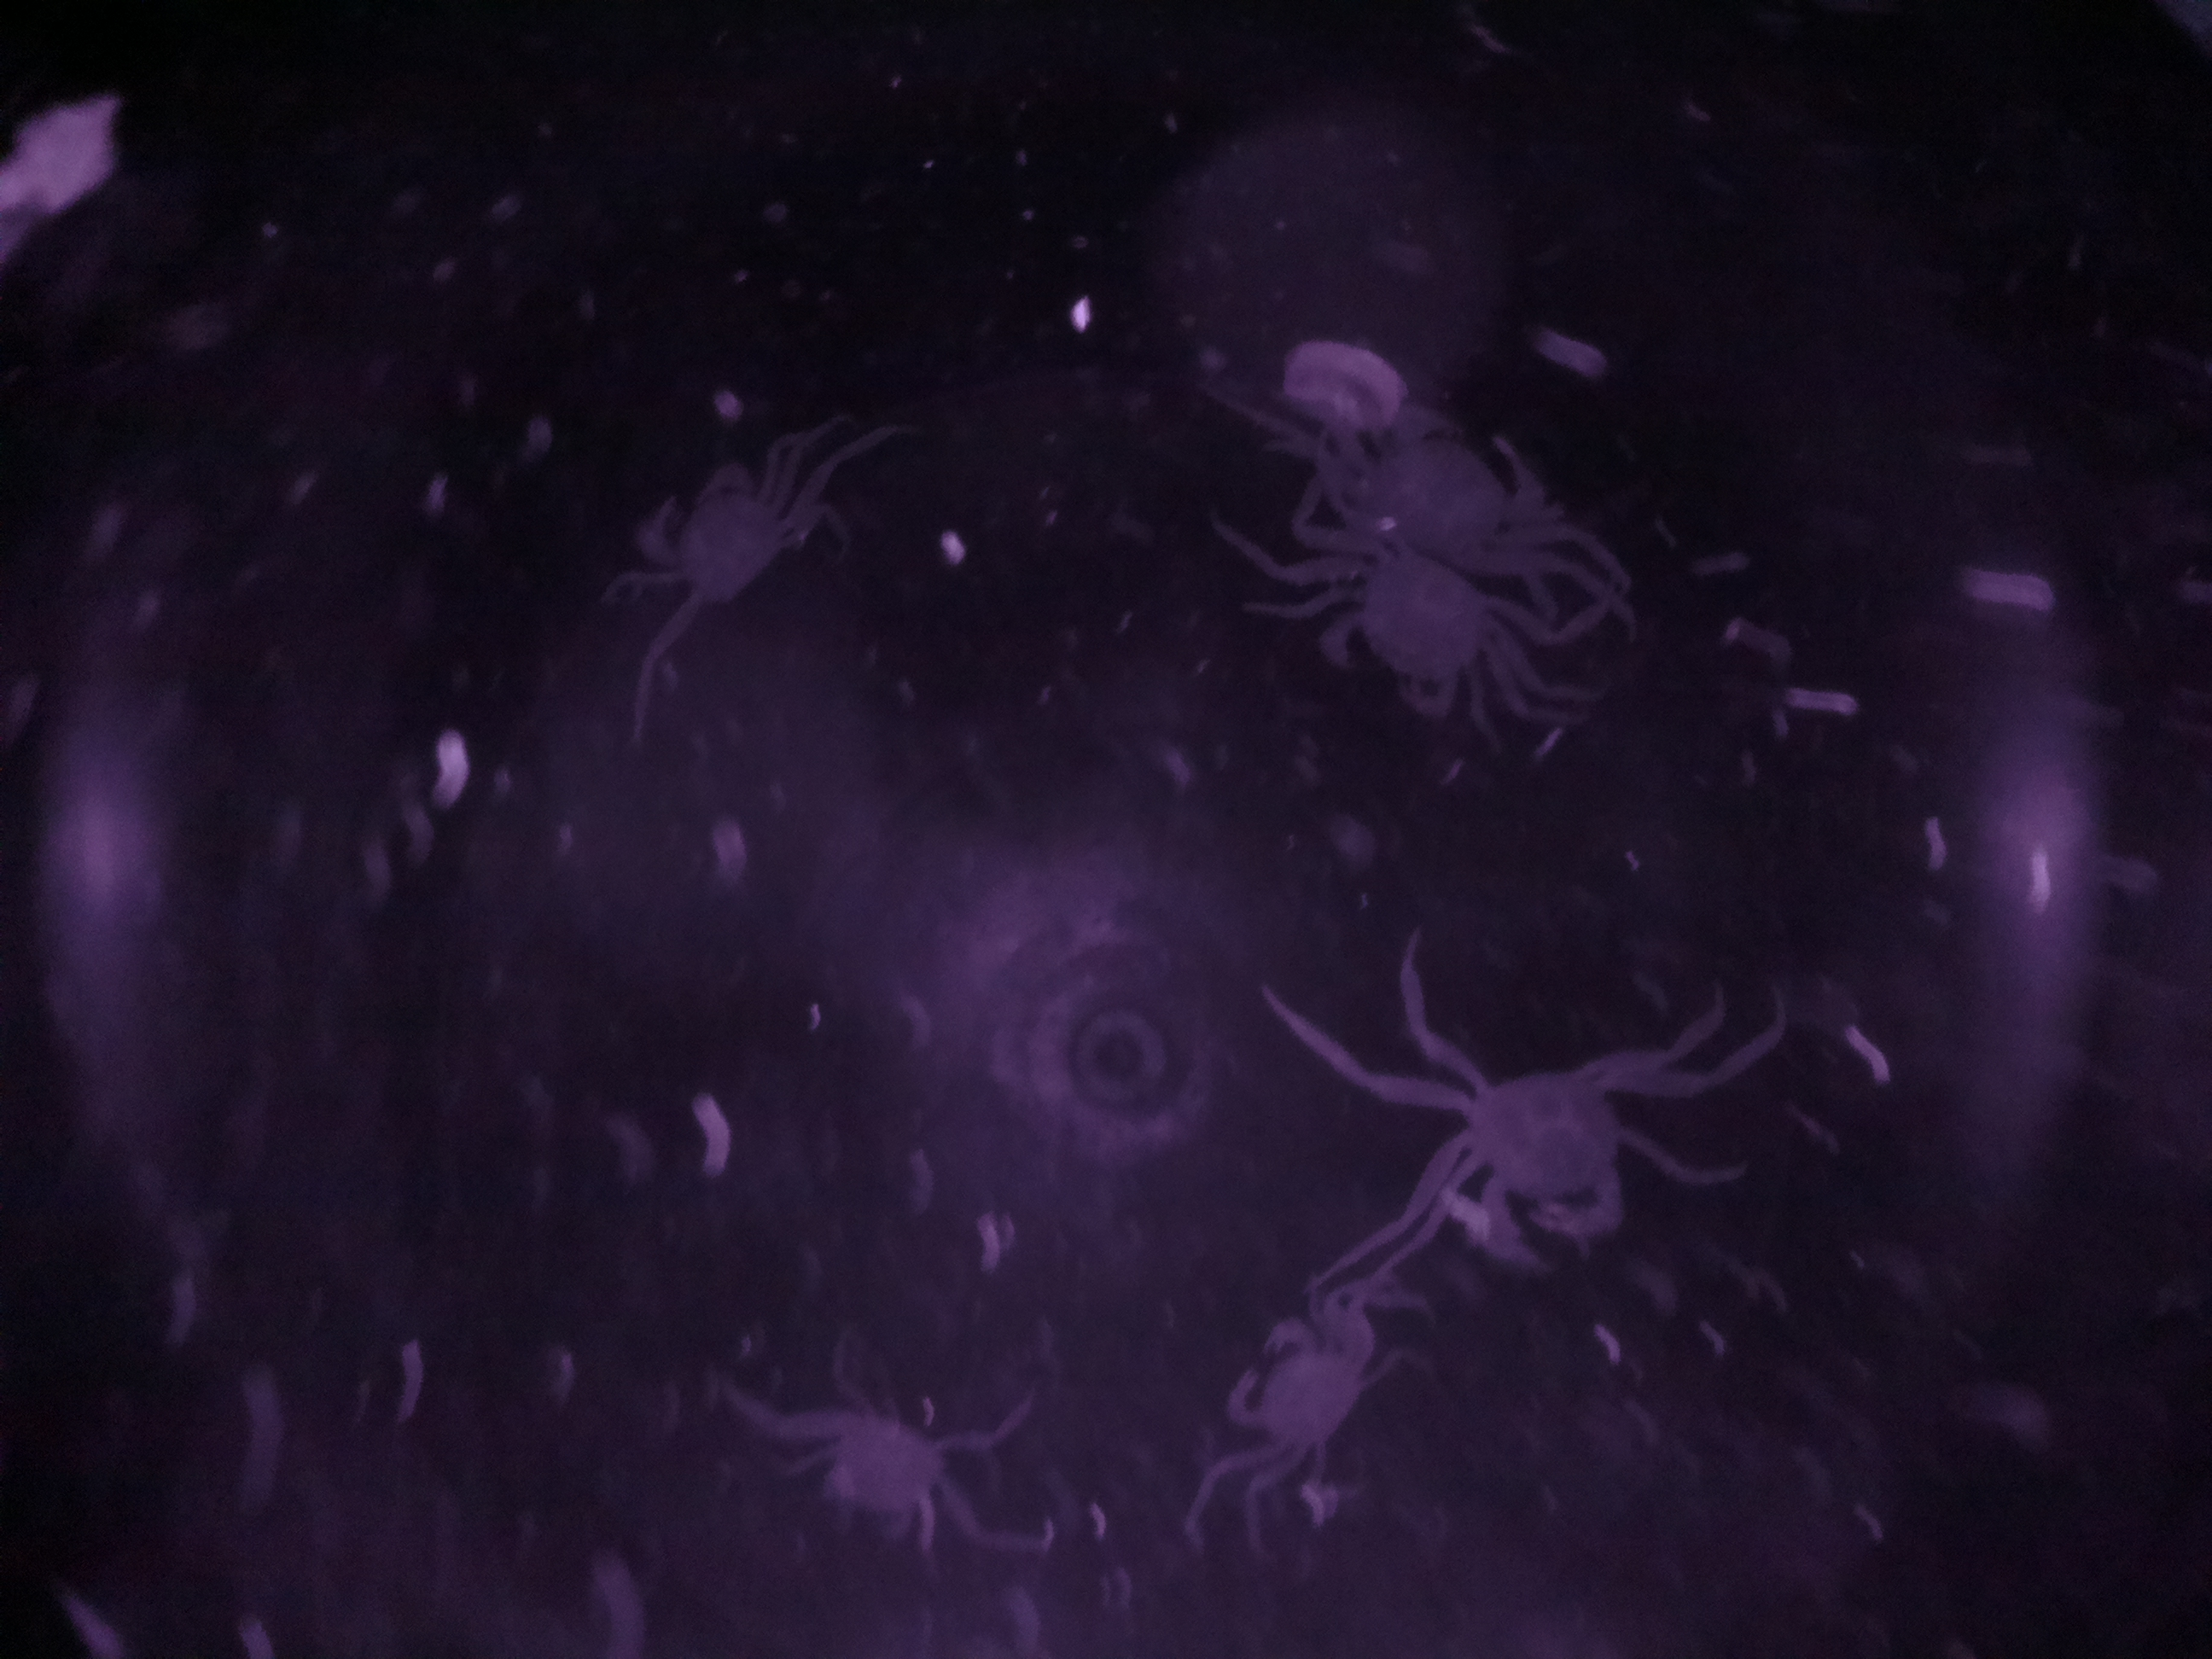Crab: (1407, 995, 1703, 1284), (606, 432, 866, 653)
